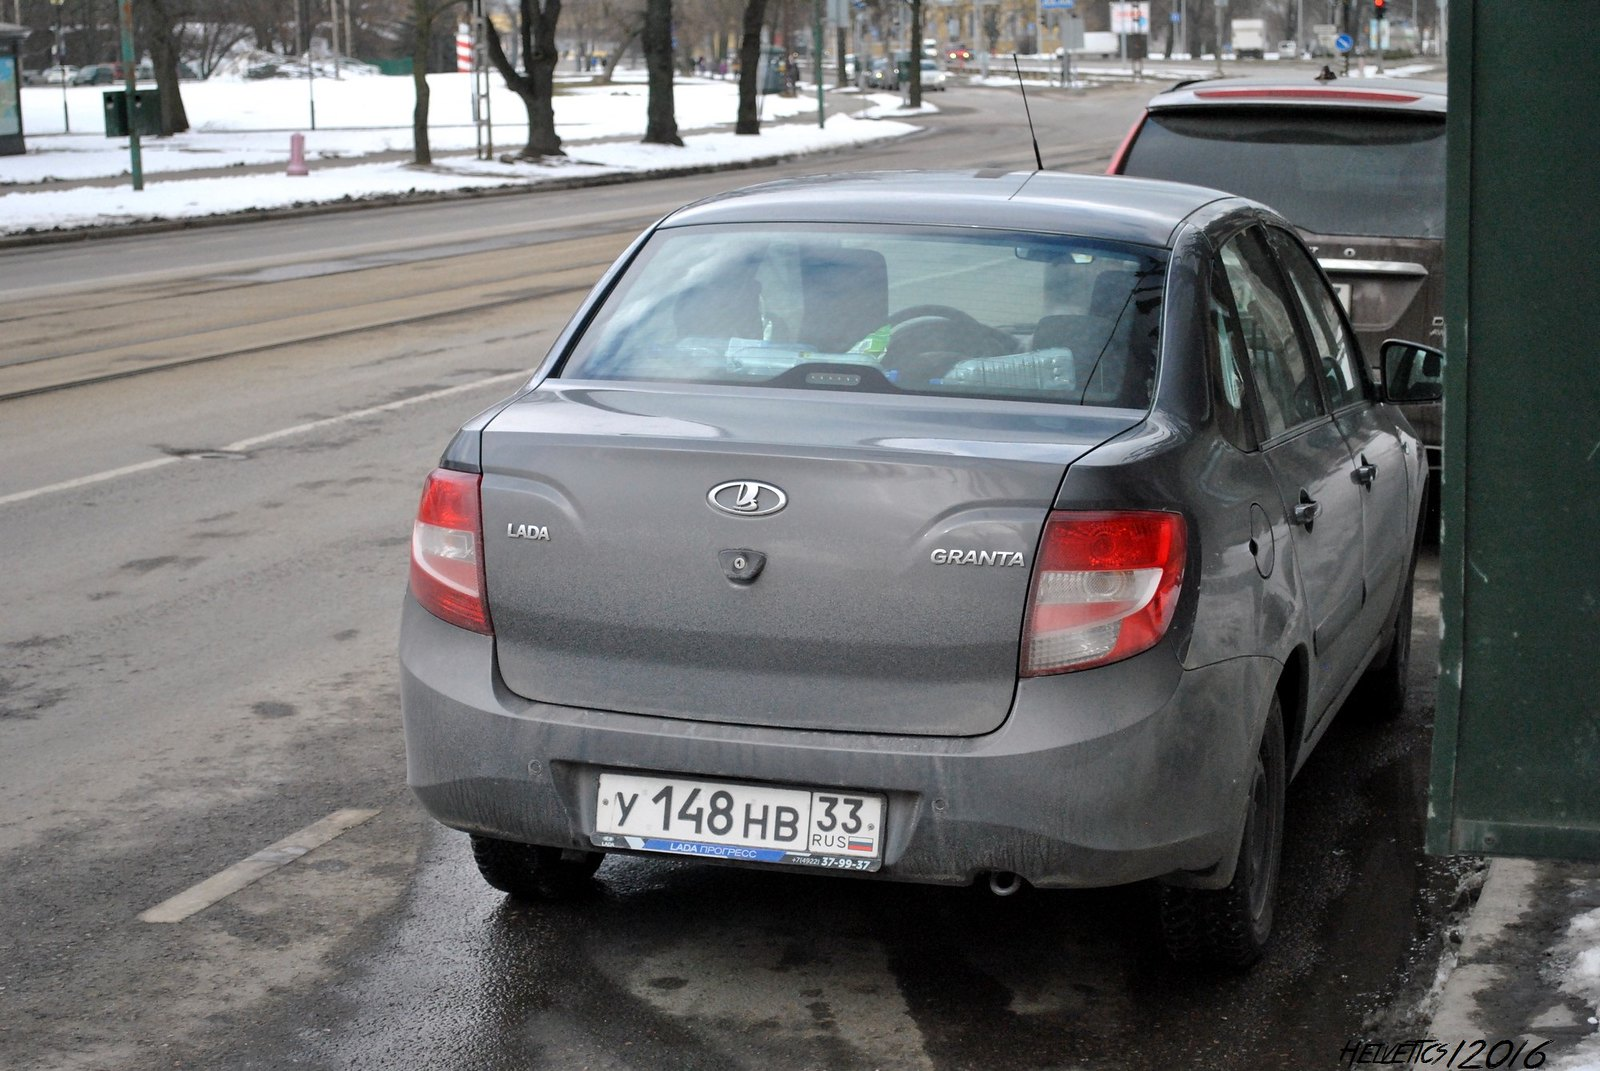car_rear: (403, 421, 1175, 894)
plate: (594, 771, 881, 862)
